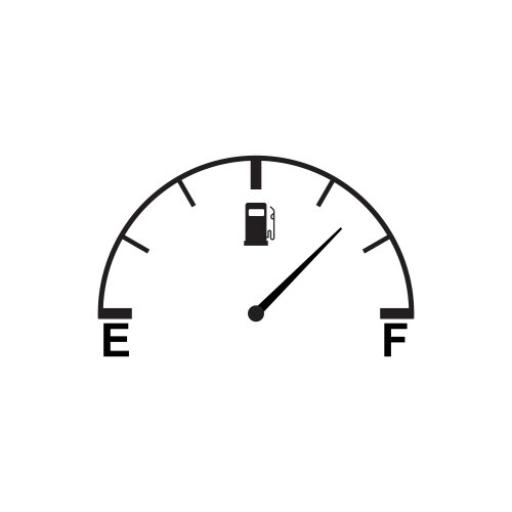empty: (101, 320, 131, 361)
fuel_icon: (239, 199, 279, 252)
full: (381, 320, 409, 359)
guage_area: (70, 148, 430, 371)
needle_center: (242, 294, 275, 332)
needle_tip: (319, 224, 349, 250)
